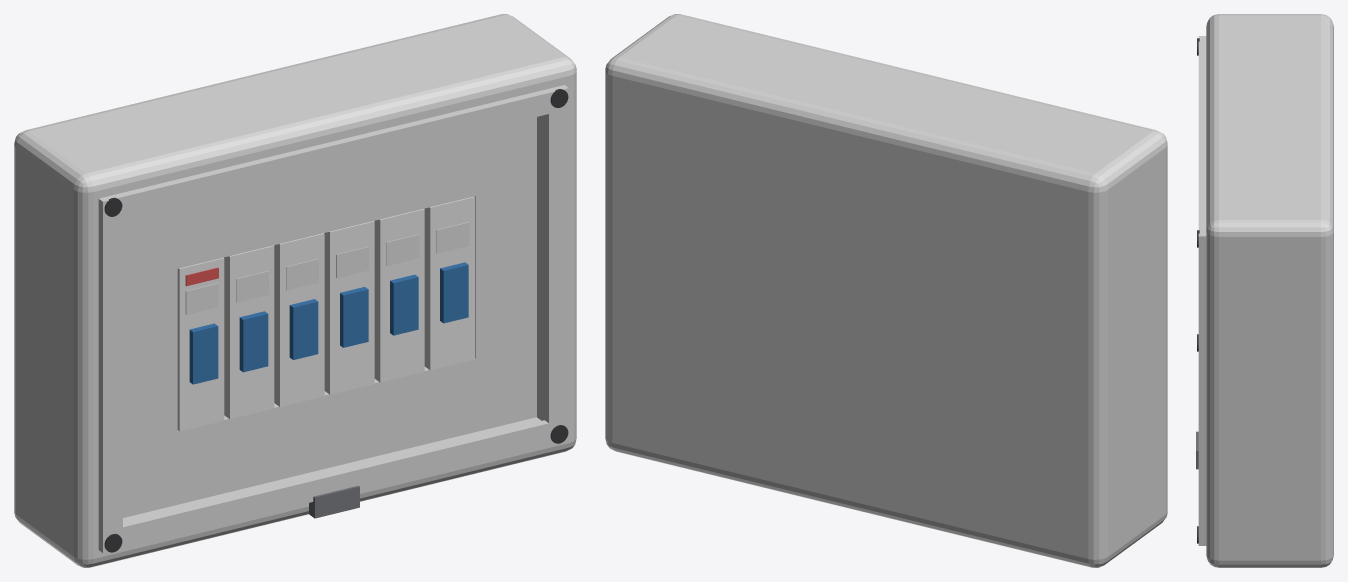
The model's file is KotakAgihan.glb.
3 views of the same model, side by side, from view 1: azimuth 30°, elevation 25°; view 2: azimuth 150°, elevation 25°; view 3: azimuth 270°, elevation 25° (orthographic). The views are drawn at different scales.
Parts seen in each view (by area): view 1: KotakAgihan; view 2: KotakAgihan; view 3: KotakAgihan.
Boxes of the visible parts, box(x1,y1,x2,y2) form: KotakAgihan: box(14, 14, 576, 567); KotakAgihan: box(605, 14, 1167, 567); KotakAgihan: box(1196, 14, 1333, 567).
Bounding box in the file's own units: 0.2 × 0.15 × 0.054.
